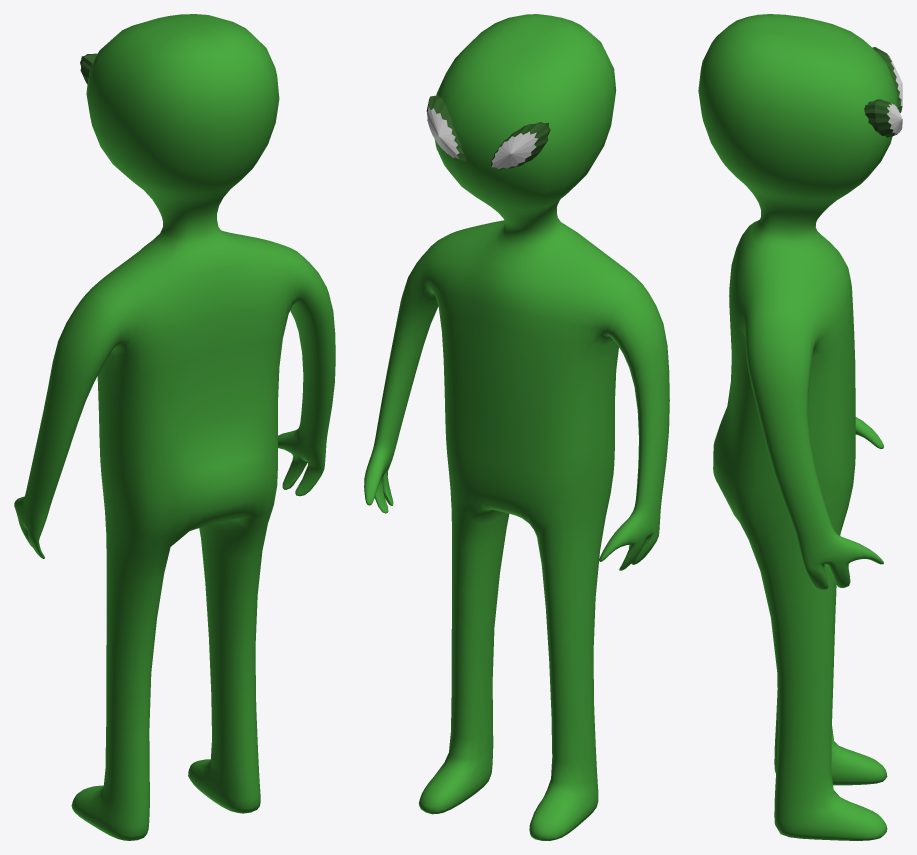
Rendered from Alien2.fbx.
3 views of the same model, side by side, from view 1: azimuth 30°, elevation 25°; view 2: azimuth 150°, elevation 25°; view 3: azimuth 270°, elevation 25° (orthographic). The views are drawn at different scales.
Parts seen in each view (by area): view 1: Cuerpo Alien.001; view 2: Cuerpo Alien.001; view 3: Cuerpo Alien.001.
Boxes of the visible parts, <box> form: Cuerpo Alien.001: <box>14,14,335,840</box>; Cuerpo Alien.001: <box>364,14,669,840</box>; Cuerpo Alien.001: <box>698,14,902,840</box>.
Bounding box in the file's own units: 59.3 × 155 × 36.71.
